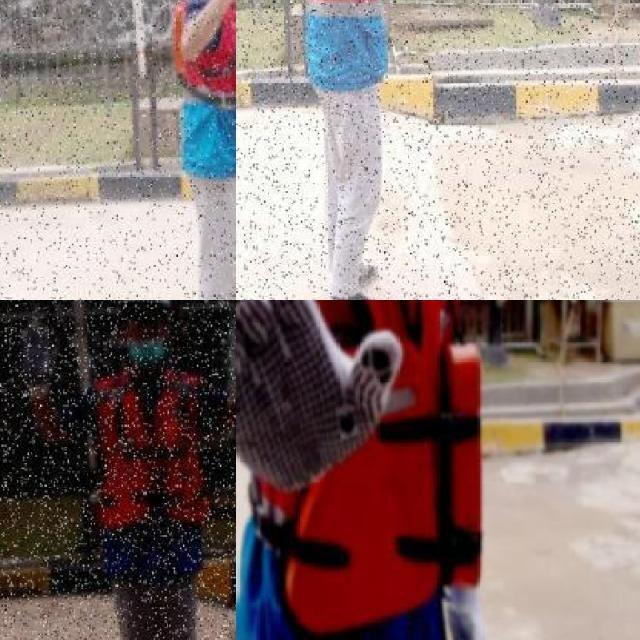apron: (236, 300, 401, 498), (19, 320, 58, 400), (439, 577, 487, 640), (227, 308, 236, 388)
